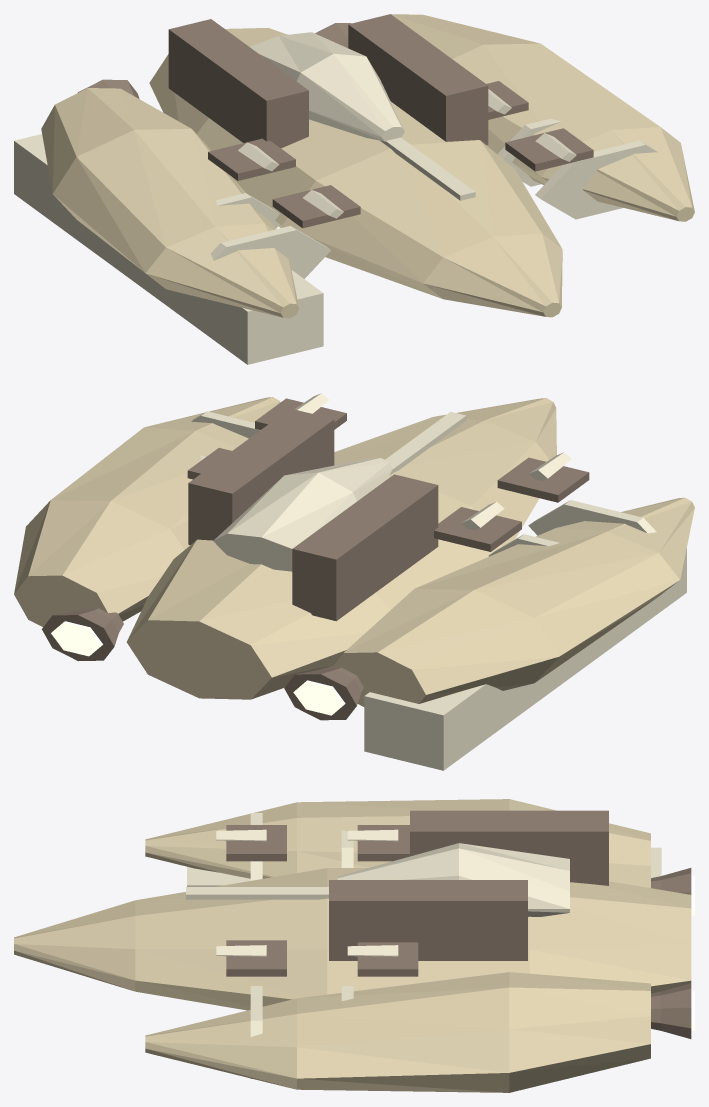
3 renders of one model, top to bottom at view 1: azimuth 30°, elevation 25°; view 2: azimuth 150°, elevation 25°; view 3: azimuth 270°, elevation 25°, orthographic. The views are drawn at different scales.
Size of the model in its own units: 7.58 by 2.16 by 8.22.
